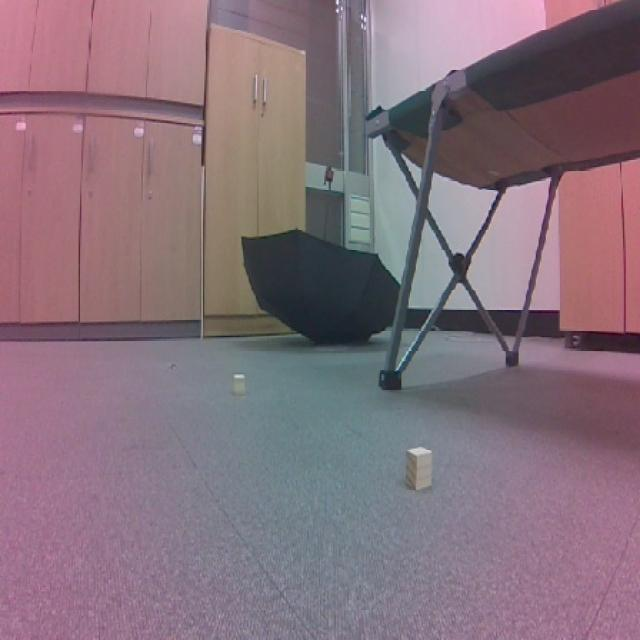obstacle: (402, 444, 439, 498), (226, 369, 252, 398)
